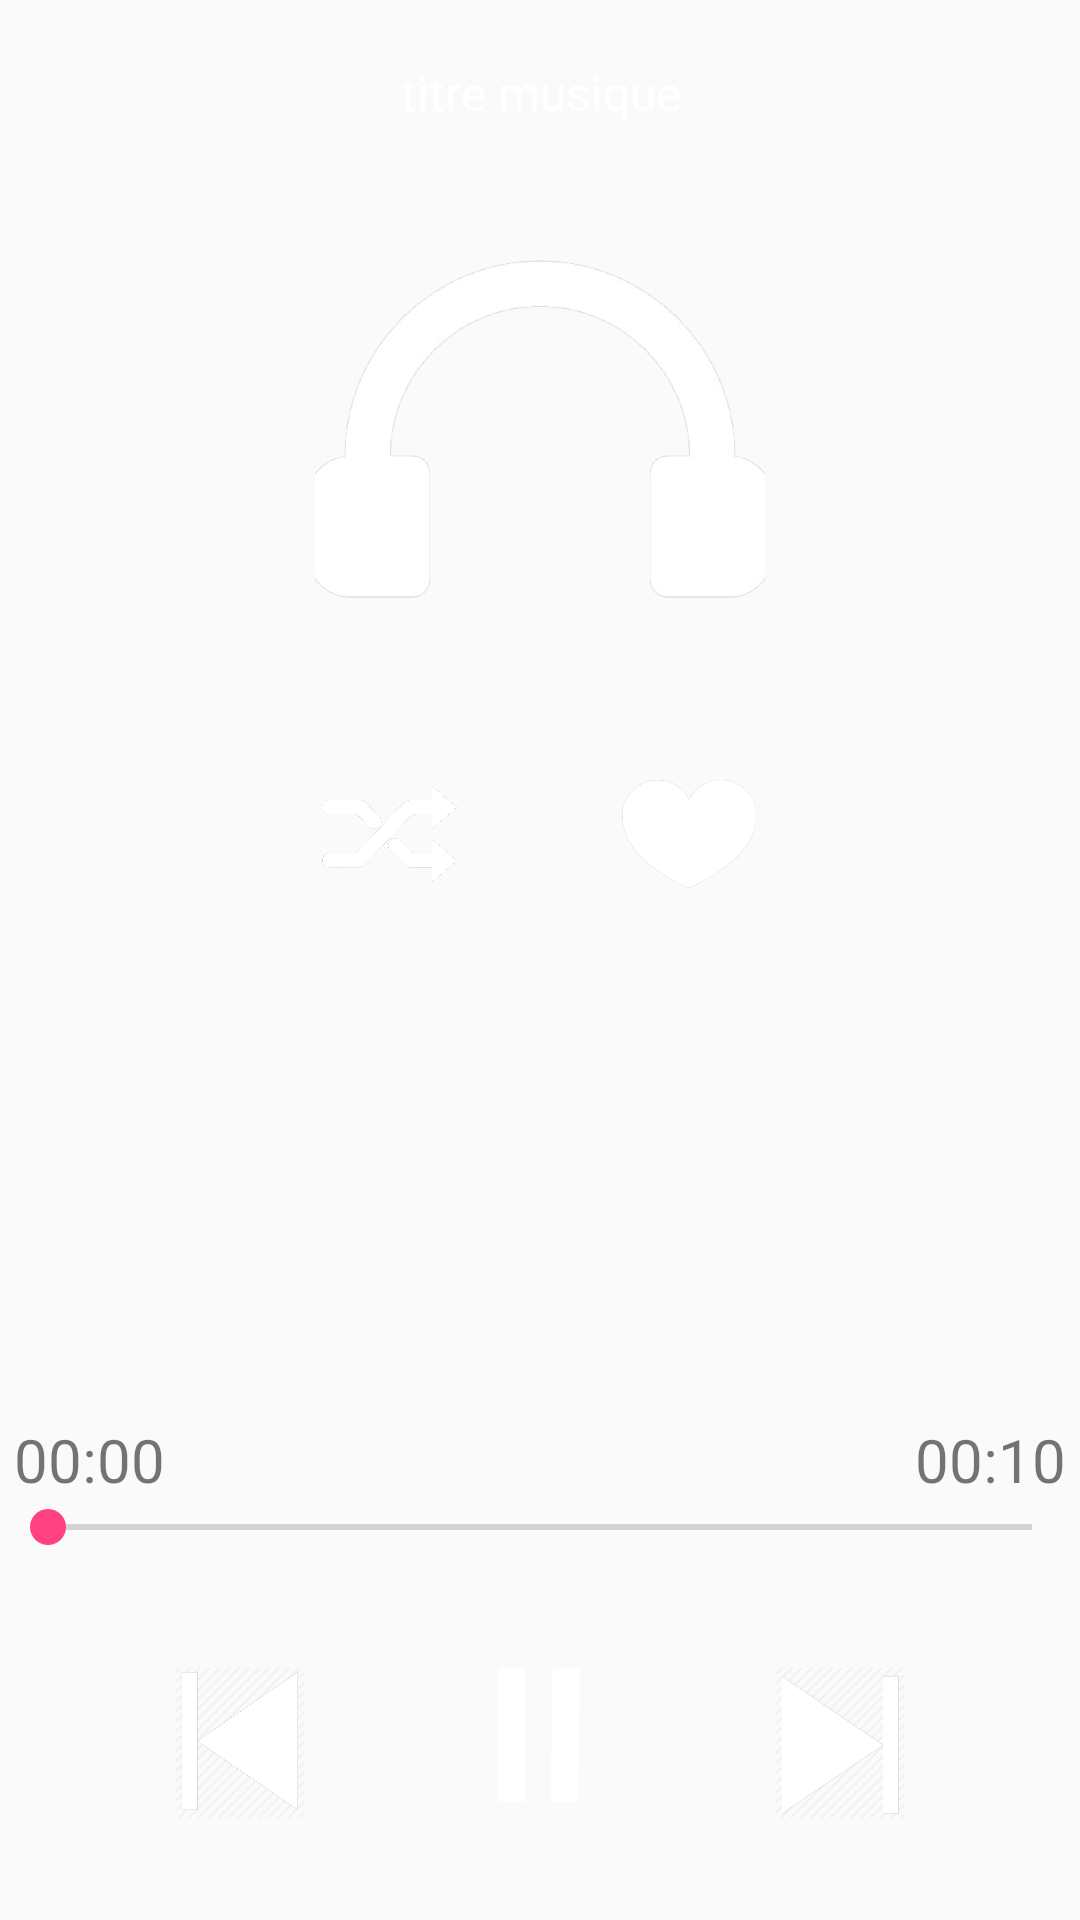

Point at icon controls on the screen. Image size 1080w x 1920h, points as point (x, y).
next: point (842, 1745)
previous: point (247, 1741)
rand: point (389, 836)
